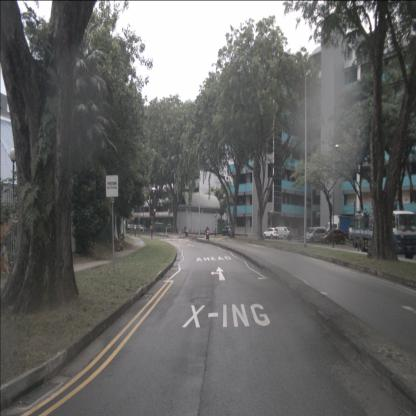human-pedestrian-adult: (289, 229, 291, 242)
vehicle-bicycle: (116, 232, 124, 252)
vehicle-car: (303, 227, 326, 243), (321, 229, 345, 244), (275, 226, 292, 240), (263, 227, 279, 240), (222, 226, 234, 237), (150, 222, 164, 230), (138, 224, 146, 232)
vehicle-motorcycle: (205, 225, 210, 241), (184, 226, 188, 237)
vehicle-truck: (354, 206, 415, 261), (326, 214, 357, 240)
